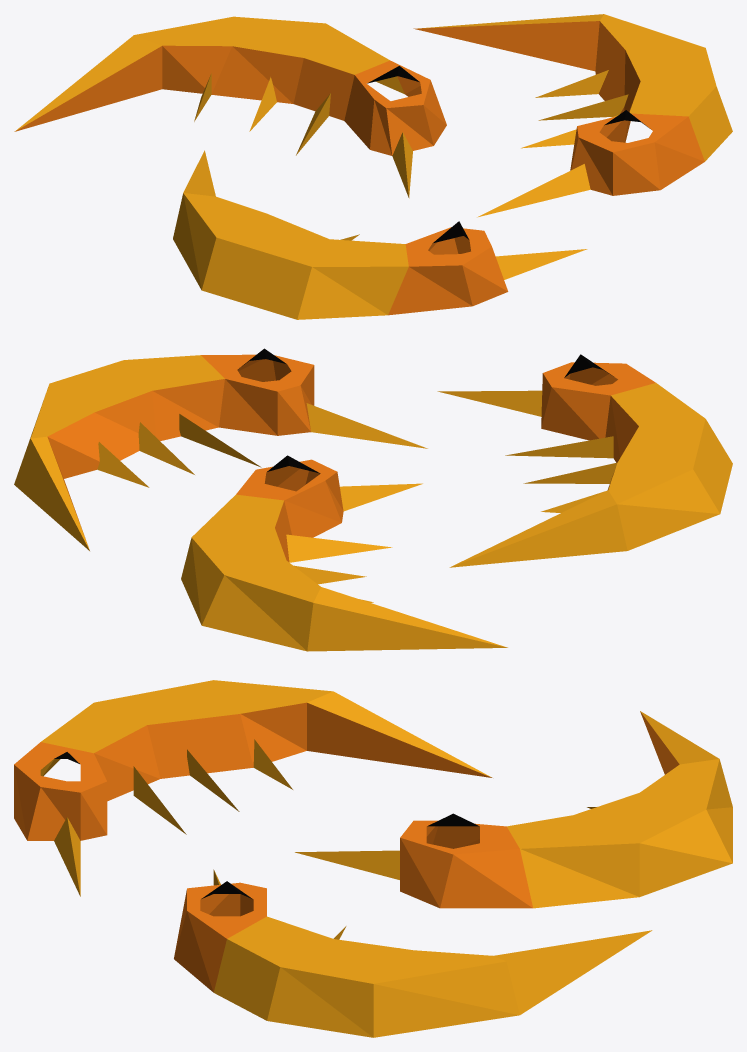
Rendered from inv_shrimps.obj.
The picture shows the model from 3 angles, top to bottom: view 1: azimuth 30°, elevation 25°; view 2: azimuth 150°, elevation 25°; view 3: azimuth 270°, elevation 25°; orthographic projection. The views are drawn at different scales.
Bounding box in the file's own units: 0.4453 × 0.0469 × 0.4219.
